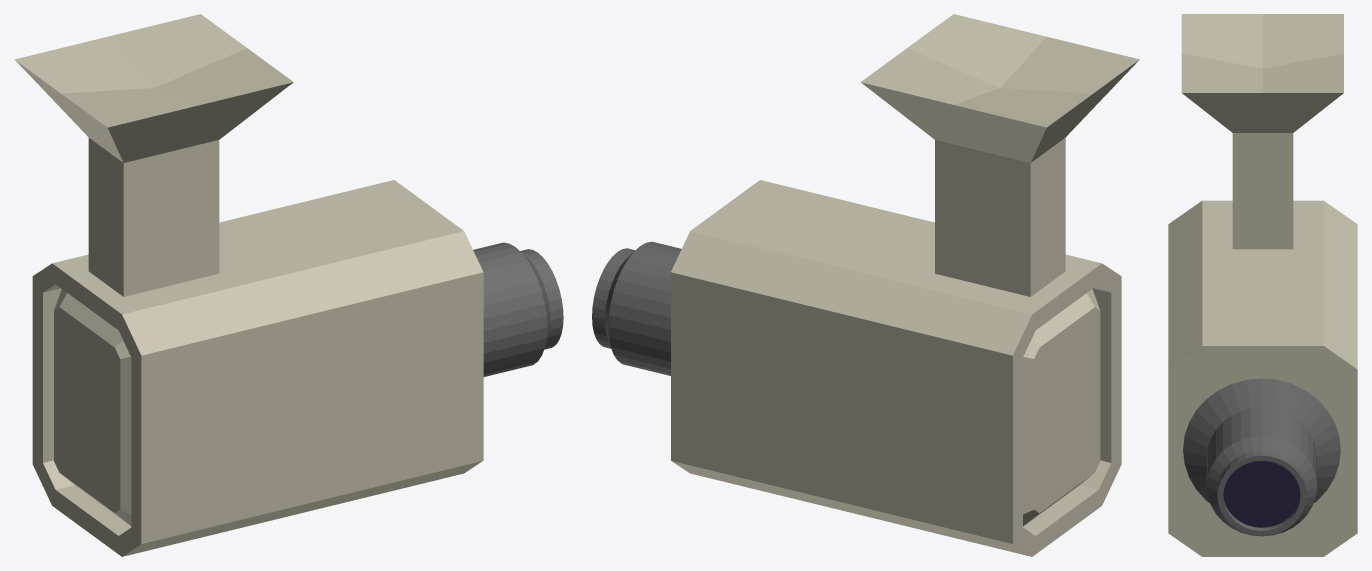
Rendered from camera.fbx.
3 renders of one model, left to right at view 1: azimuth 30°, elevation 25°; view 2: azimuth 150°, elevation 25°; view 3: azimuth 270°, elevation 25°, orthographic. The views are drawn at different scales.
Parts seen in each view (by area): view 1: Cube; view 2: Cube; view 3: Cube.
Boxes of the visible parts, x1,y1,x2,y2 form: Cube: (14, 14, 563, 556); Cube: (592, 14, 1139, 556); Cube: (1168, 14, 1357, 556).
Size of the model in its own units: 2.49 by 2.22 by 0.9827.
